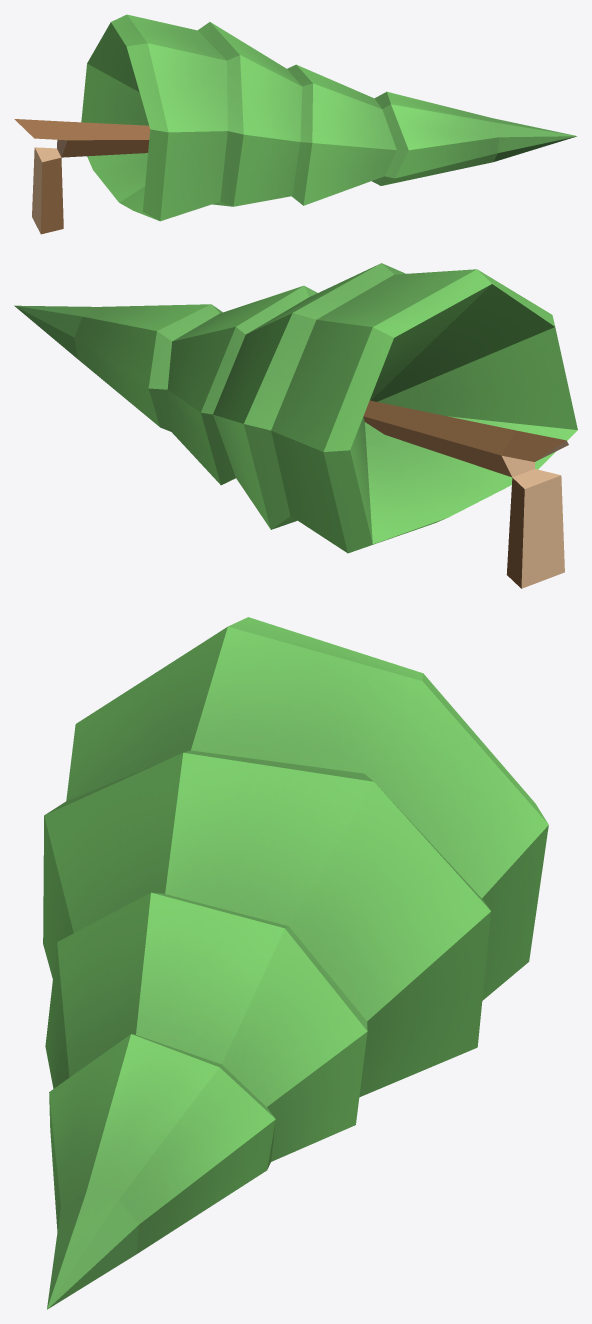
The model's file is Fir_Tree_crk_m_01.fbx.
3 views of the same model, one above another, from view 1: azimuth 30°, elevation 25°; view 2: azimuth 150°, elevation 25°; view 3: azimuth 270°, elevation 25° (orthographic). The views are drawn at different scales.
Parts seen in each view (by area): view 1: Fir_Tree_crk_m_01; view 2: Fir_Tree_crk_m_01; view 3: Fir_Tree_crk_m_01.
Part boxes in pixels (<box>): Fir_Tree_crk_m_01: <box>14,14,577,234</box>; Fir_Tree_crk_m_01: <box>14,263,577,588</box>; Fir_Tree_crk_m_01: <box>43,617,548,1309</box>.
Bounding box in the file's own units: 679 × 249 × 307.
